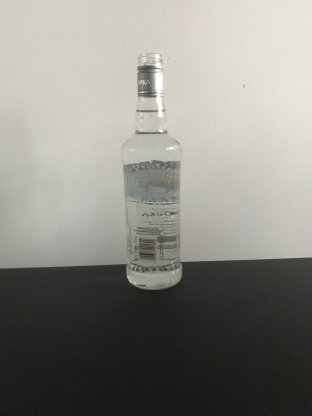nakretka: (135, 52, 165, 99)
